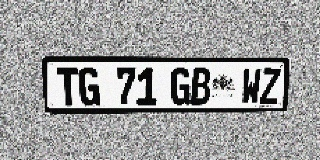1: (137, 68, 157, 105)
7: (116, 68, 136, 106)
B: (191, 68, 211, 105)
G: (78, 68, 100, 106), (171, 68, 191, 105)
T: (57, 68, 79, 106)
W: (241, 68, 261, 104)
Z: (260, 68, 281, 104)
